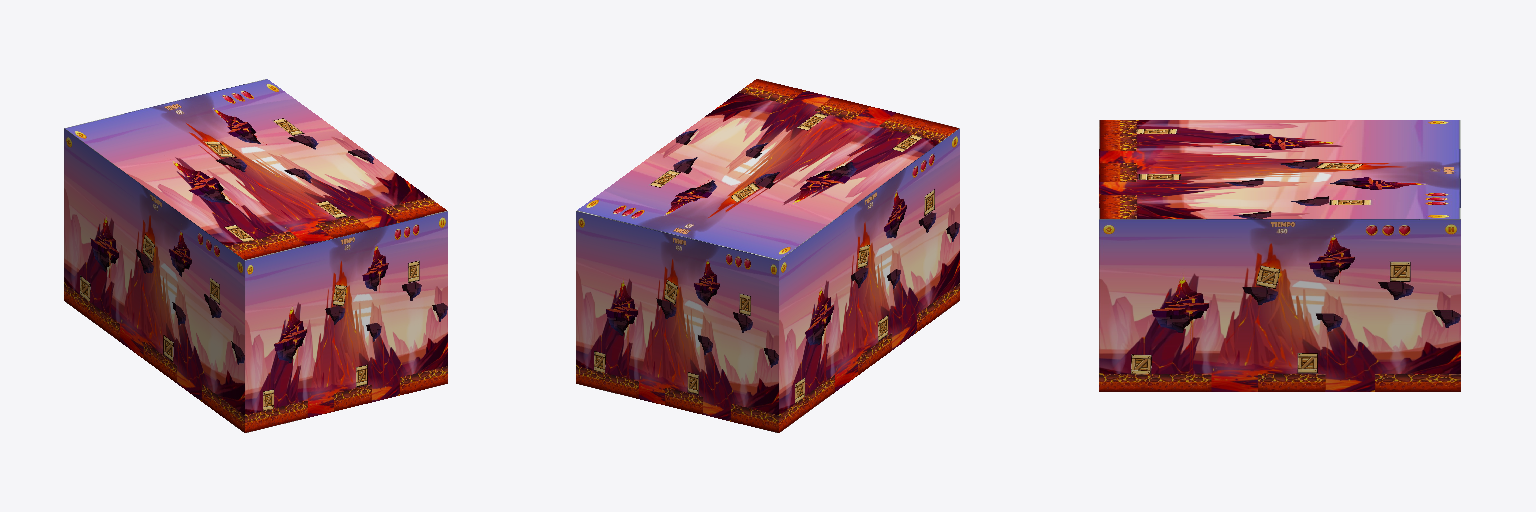
3 views of the same model, side by side, from view 1: azimuth 30°, elevation 25°; view 2: azimuth 150°, elevation 25°; view 3: azimuth 270°, elevation 25° (orthographic).
Parts seen in each view (by area): view 1: Box001; view 2: Box001; view 3: Box001.
Part boxes in pixels (x1,y1,x2,y2): Box001: (64, 79, 447, 432); Box001: (576, 79, 959, 432); Box001: (1099, 120, 1460, 391).
Size of the model in its own units: 28.38 by 23.15 by 43.8.
1 materials, 1 textured.